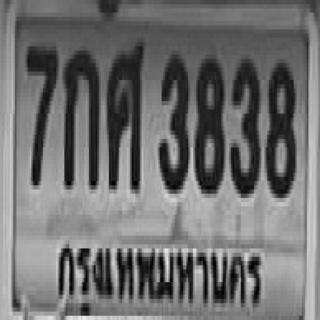A01: (63, 44, 97, 183)
A38: (105, 38, 143, 185)
N03: (157, 49, 188, 188), (229, 55, 259, 194)
N07: (25, 40, 56, 183)
N08: (193, 50, 223, 190), (264, 57, 294, 192)
P04: (54, 234, 266, 313)
